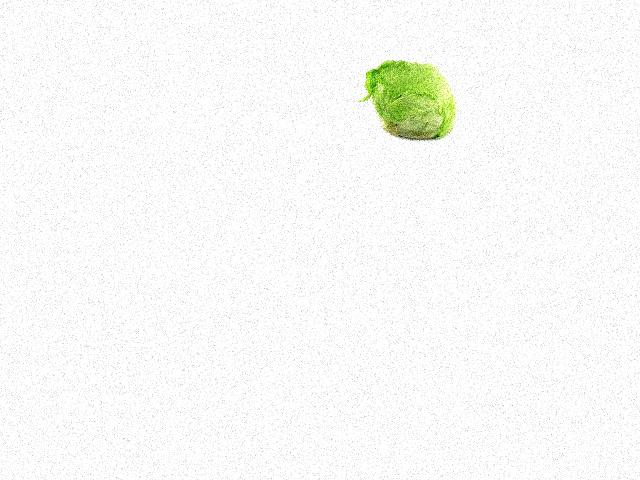lettuce: (368, 56, 459, 143)
